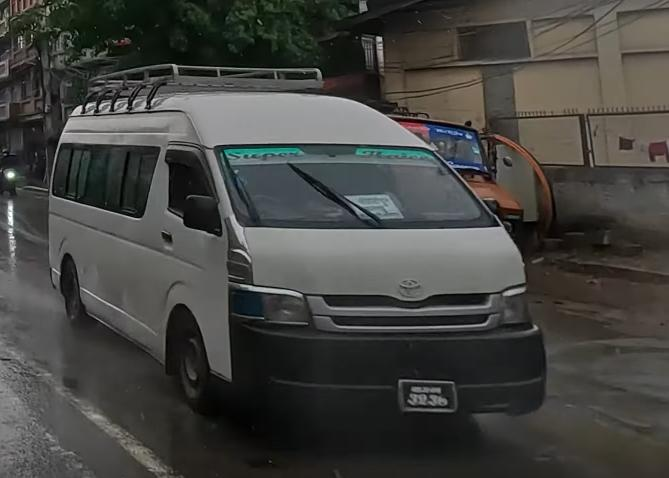micro_bus: (42, 69, 557, 440)
